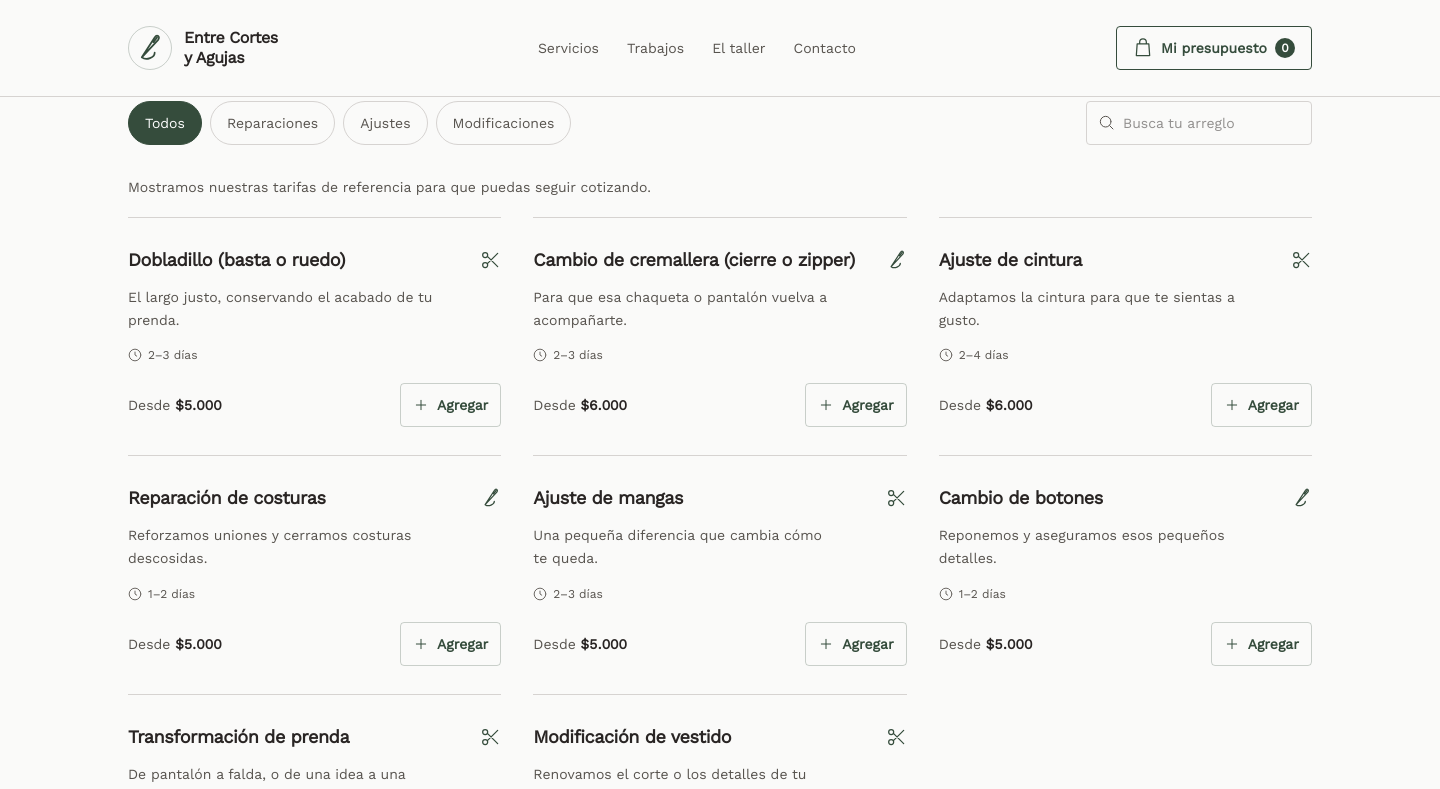
Scenario: workshop landing › can empty the quote and reset express without leaving a surcharge
(page scrolled)
Click the button with aria-label "Agregar Cambio de cremallera (cierre o zipper)" at {"x": 856, "y": 405}, box [805,383,907,427]
(page scrolled)
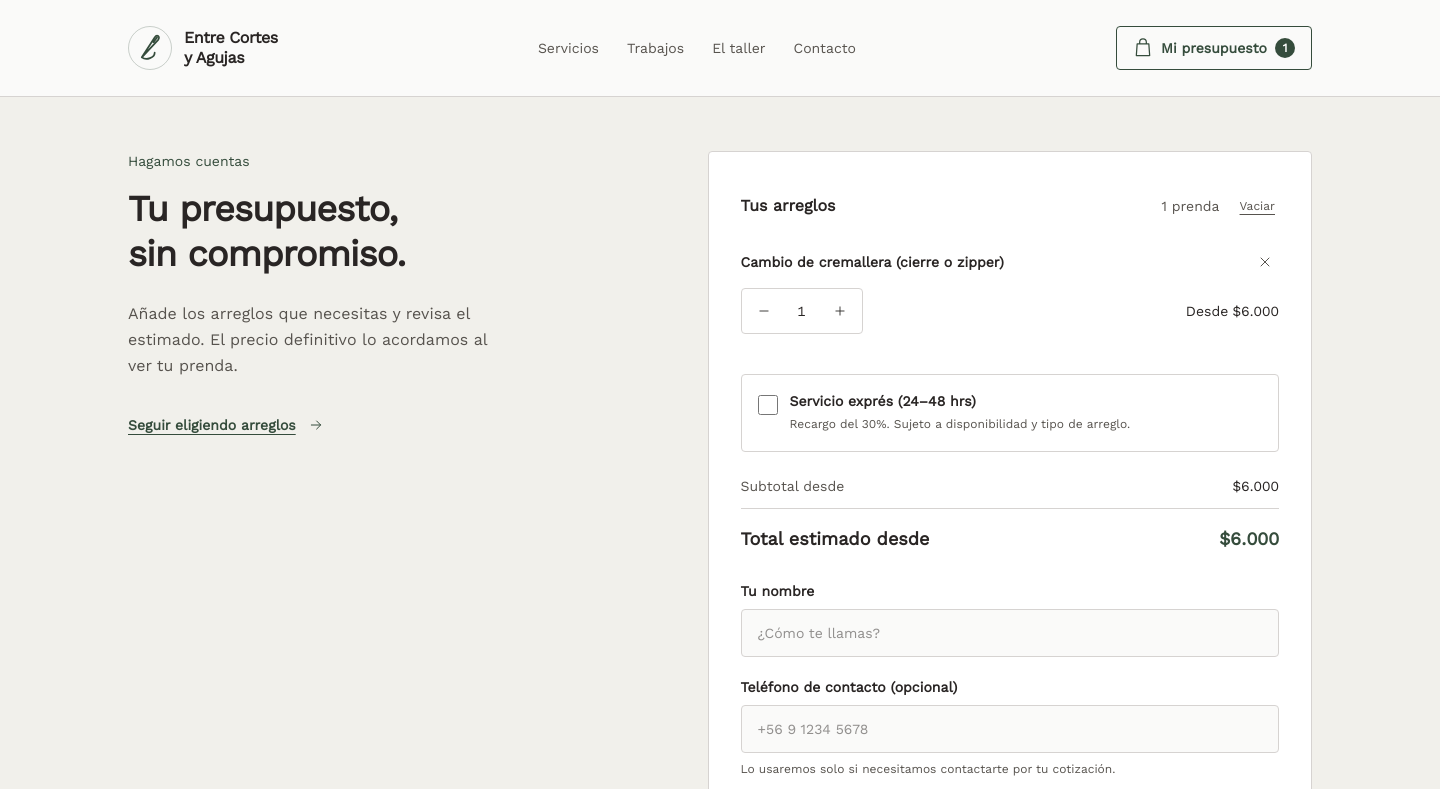
Click the checkbox labelled "Servicio exprés" at {"x": 768, "y": 405}, box [758,395,778,415]
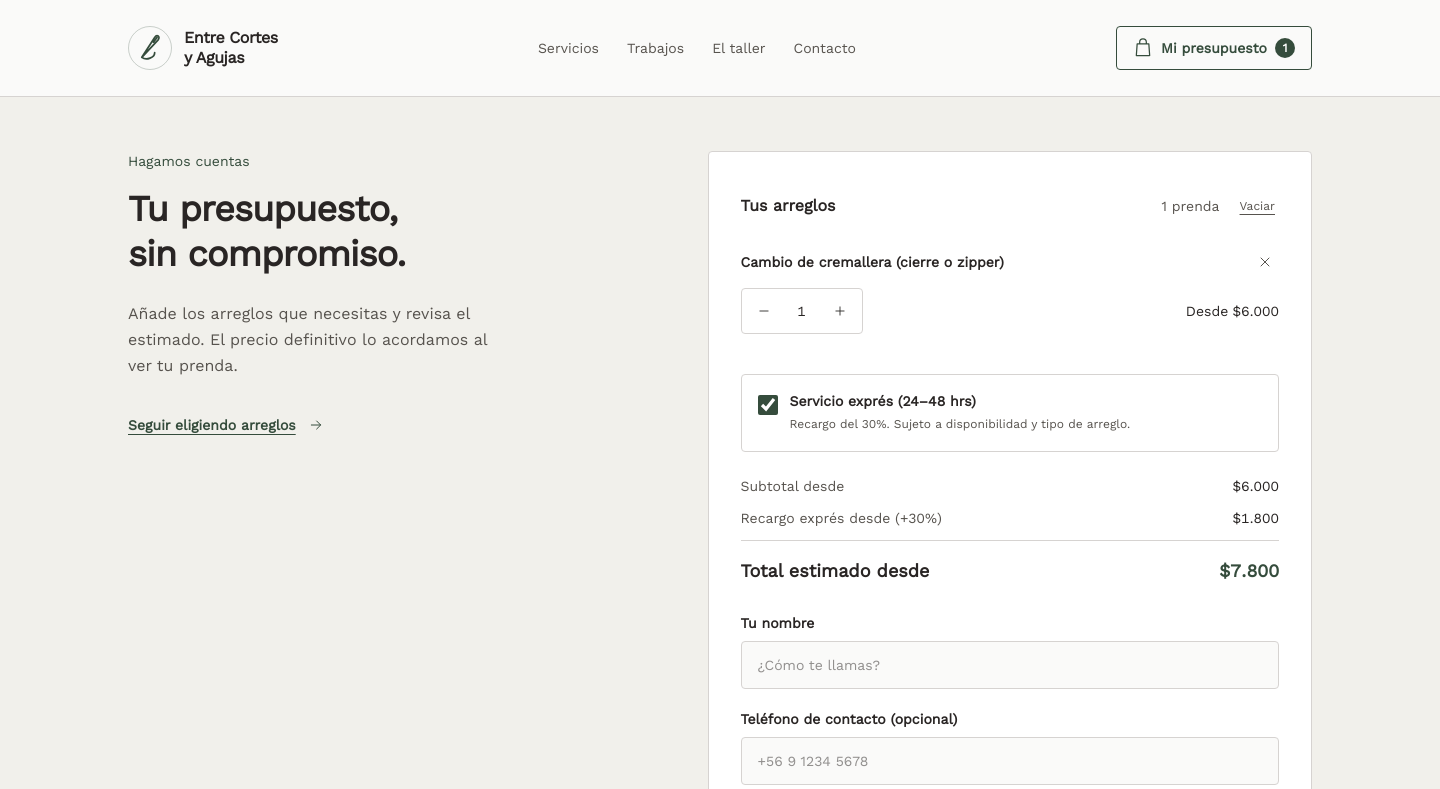
Click the button "Vaciar" at {"x": 1257, "y": 206}, box [1236,184,1279,228]
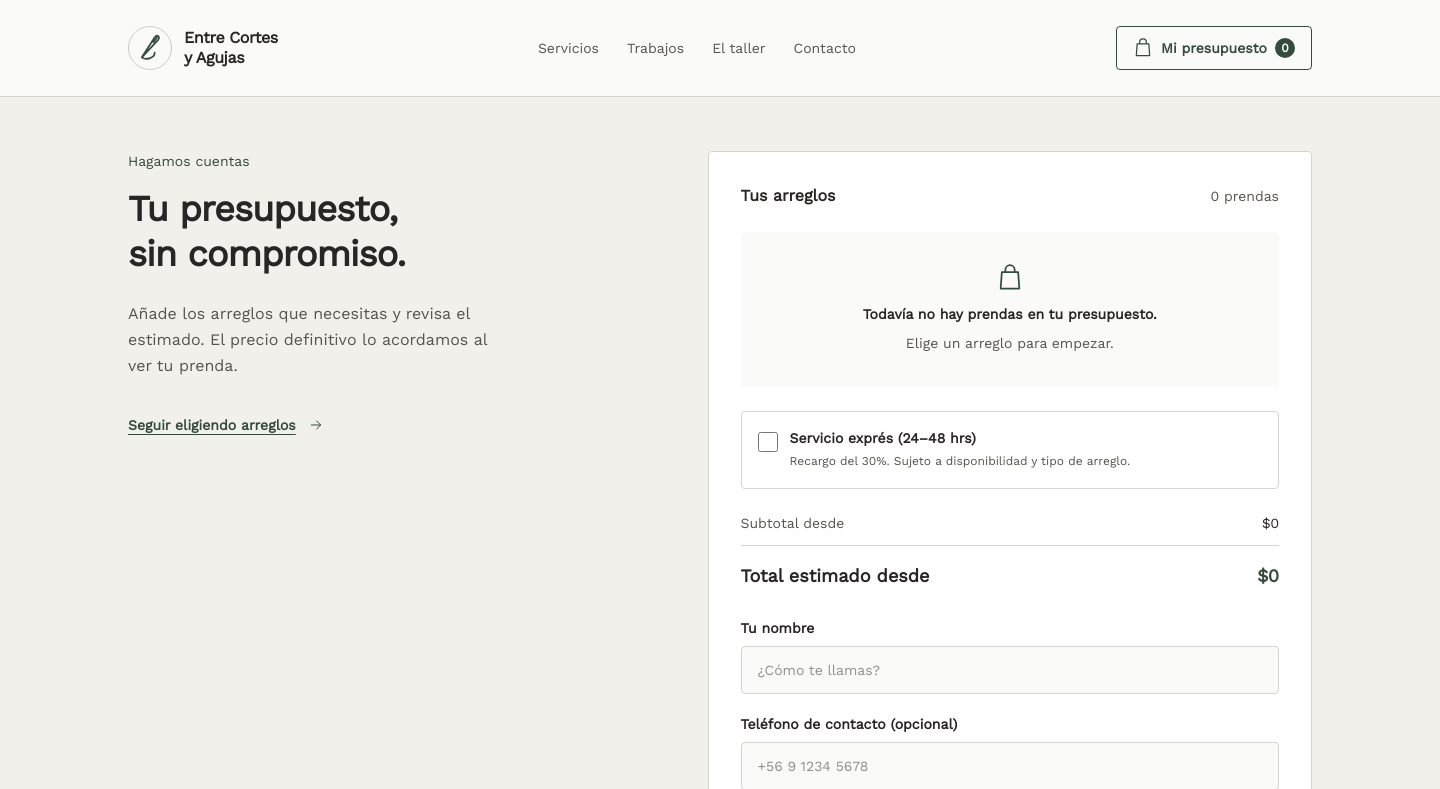
Expected: the checkbox labelled "Servicio exprés" is not checked, [758,432,778,452]
Expected: the text "Todavía no hay prendas en tu presupuesto." is shown, [863,306,1157,322]
